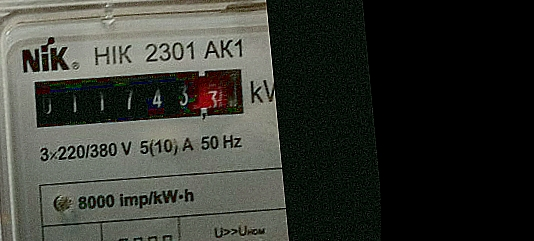0: (38, 88, 55, 116)
1: (65, 85, 82, 115), (93, 84, 109, 113)
3: (174, 80, 190, 108), (204, 87, 221, 109)
4: (148, 83, 165, 110)
7: (120, 84, 136, 110)
screen: (24, 55, 255, 140)
